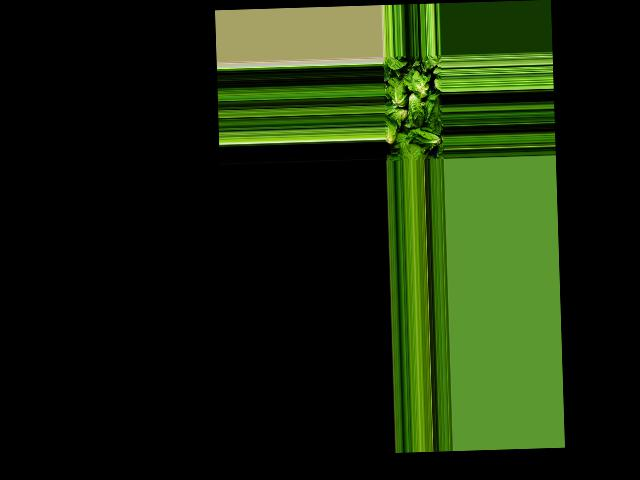lettuce: (385, 113, 399, 148)
